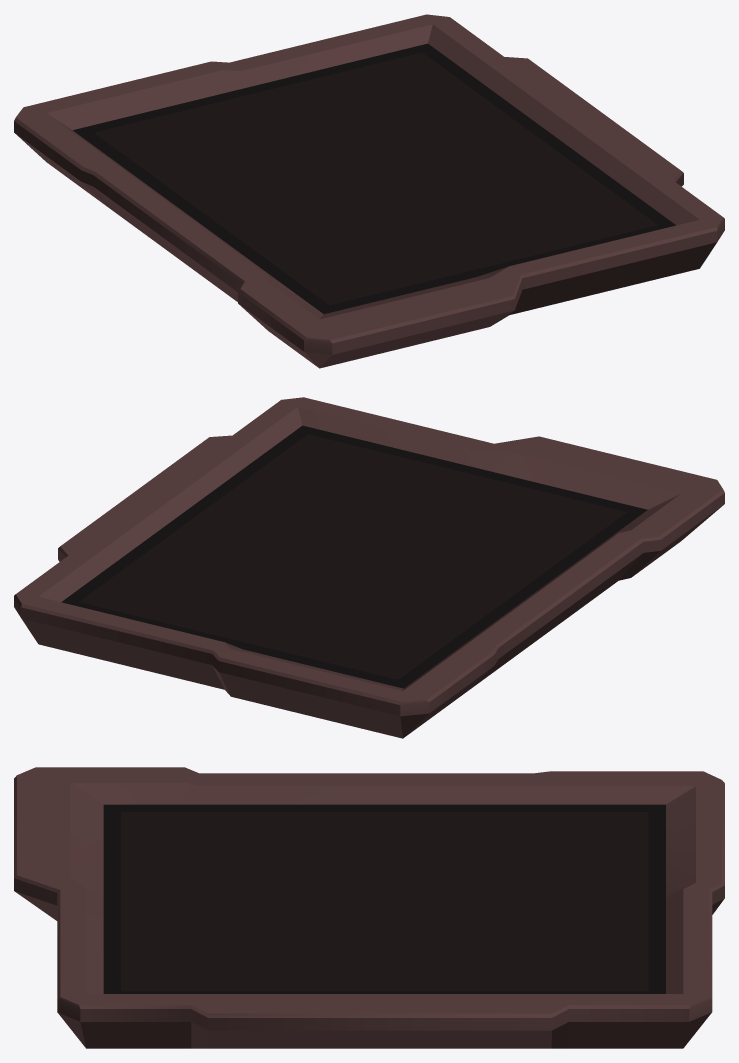
Rendered from Module_Ss_asset_Scree_1.FBX.
The picture shows the model from 3 angles, top to bottom: view 1: azimuth 30°, elevation 25°; view 2: azimuth 150°, elevation 25°; view 3: azimuth 270°, elevation 25°; orthographic projection. The views are drawn at different scales.
Parts seen in each view (by area): view 1: Module_Ss_asset_Scree_1; view 2: Module_Ss_asset_Scree_1; view 3: Module_Ss_asset_Scree_1.
Part boxes in pixels (bbox=[...]): Module_Ss_asset_Scree_1: bbox=[14, 14, 724, 368]; Module_Ss_asset_Scree_1: bbox=[14, 397, 724, 738]; Module_Ss_asset_Scree_1: bbox=[14, 767, 724, 1048].
Size of the model in its own units: 30.06 by 3.09 by 36.26.
